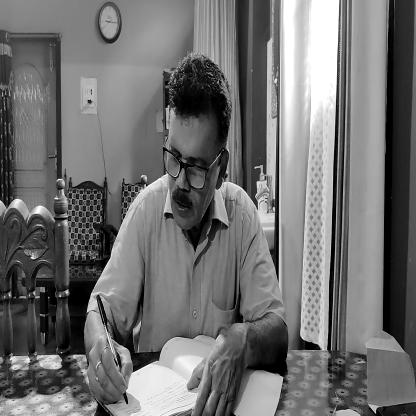Normal: (160, 55, 228, 230), (88, 326, 240, 404)
